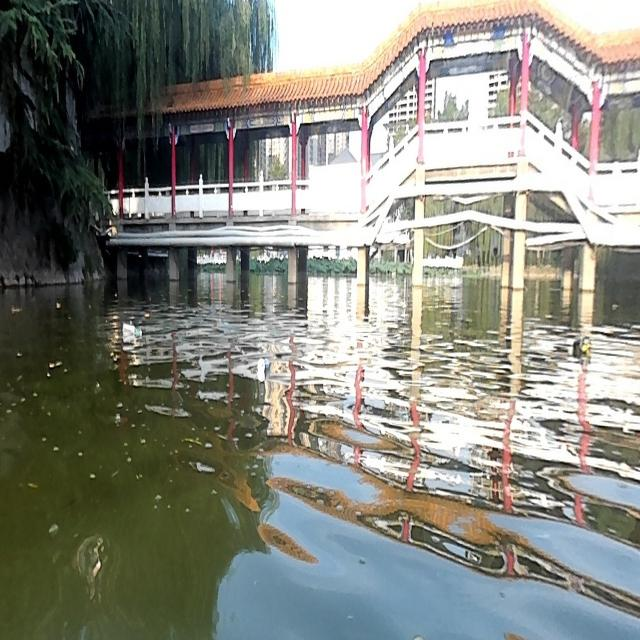bottle: (121, 319, 144, 337), (255, 353, 269, 373)
